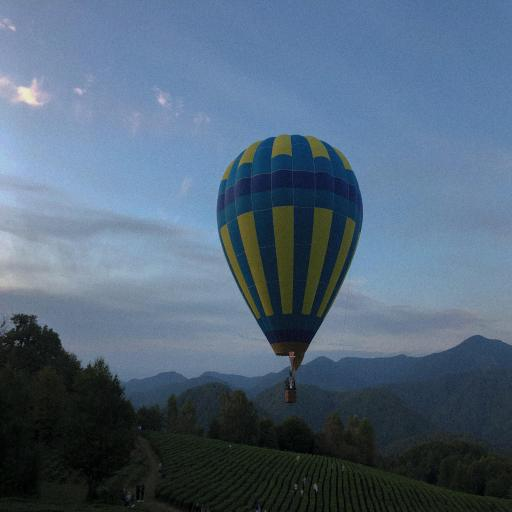hot air ballon: (217, 134, 363, 404)
